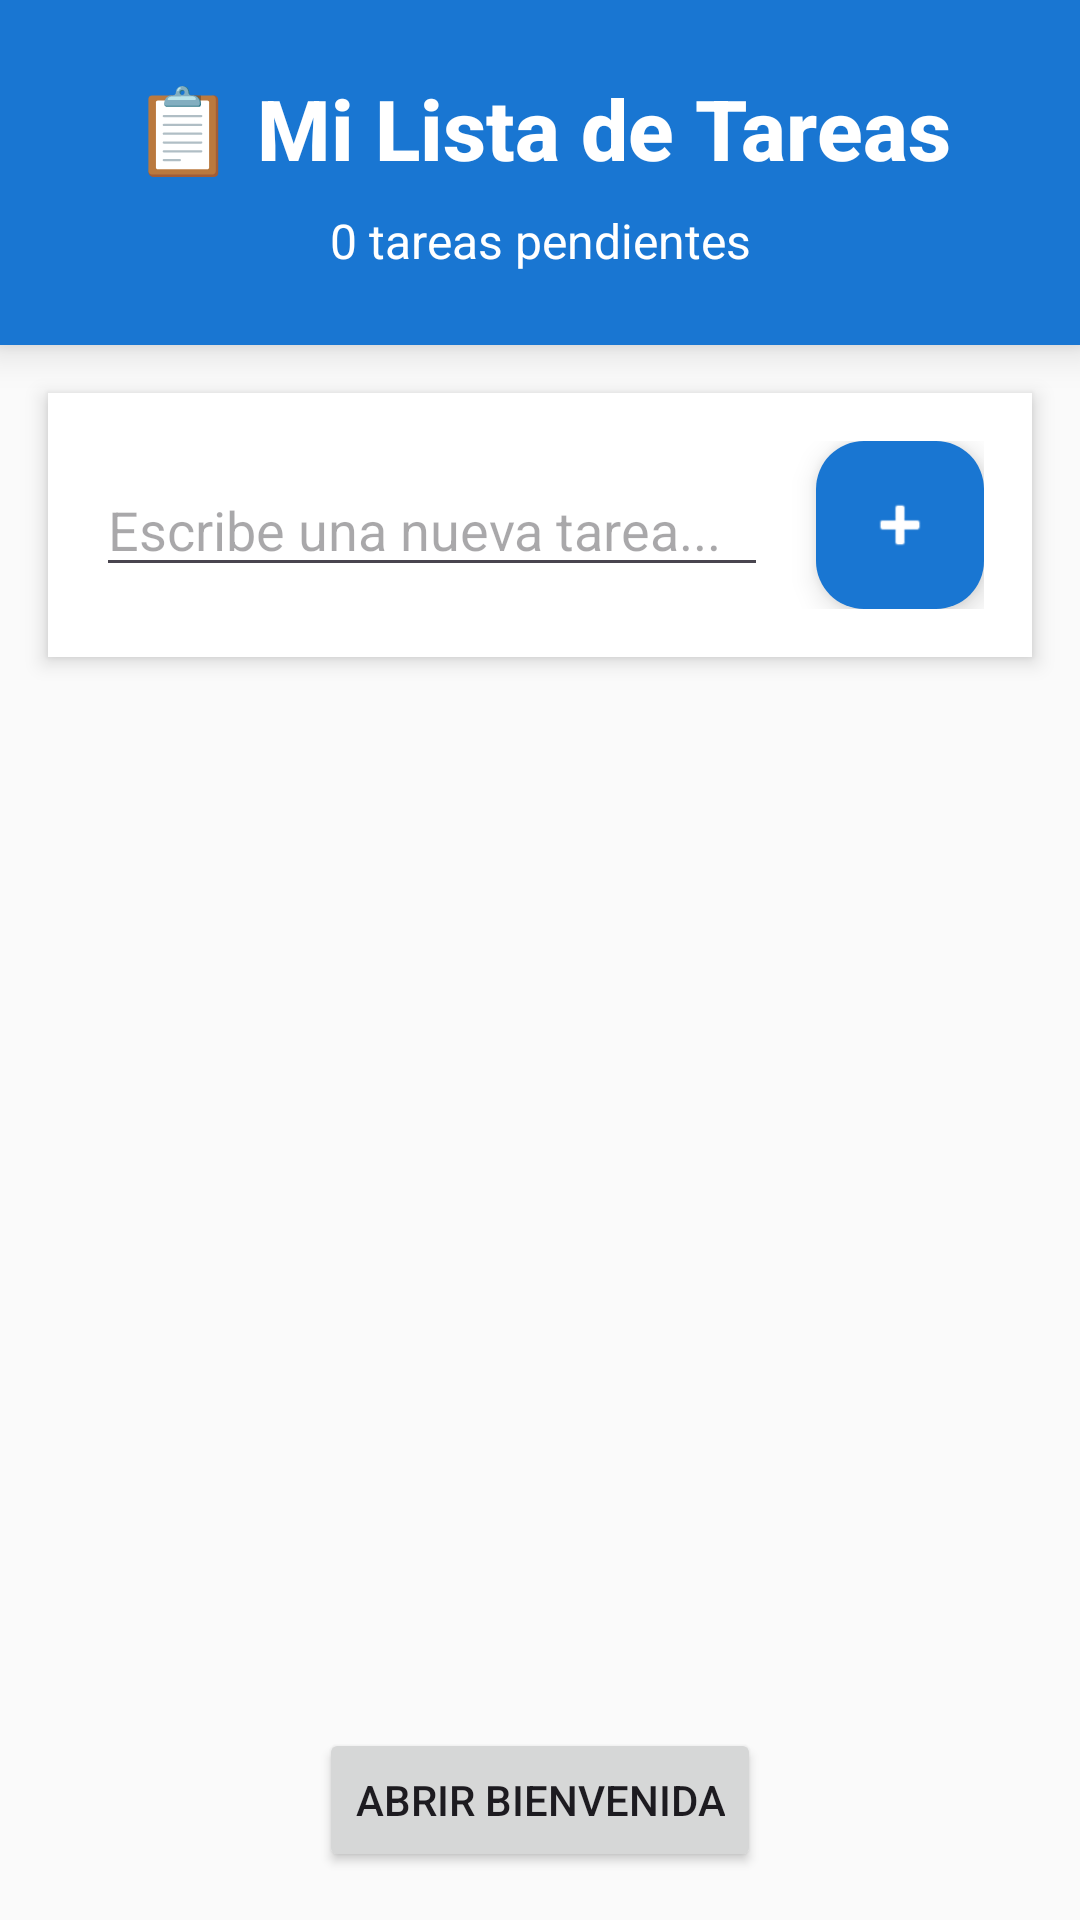

Where icons sit on this 1080*1920 app screen, as (x1, y1, x2, y2):
Agregar tarea: (816, 441, 984, 609)
